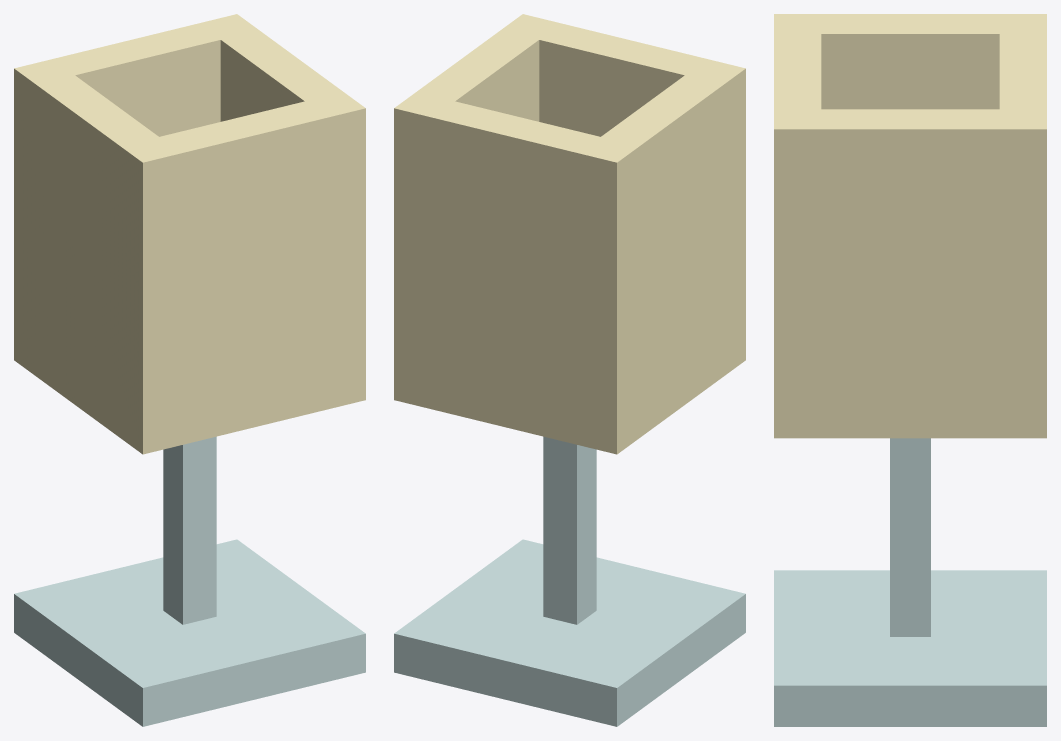
The model's file is lampSquareTable.glb.
3 renders of one model, left to right at view 1: azimuth 30°, elevation 25°; view 2: azimuth 150°, elevation 25°; view 3: azimuth 270°, elevation 25°, orthographic. The views are drawn at different scales.
Parts seen in each view (by area): view 1: lampSquareTable; view 2: lampSquareTable; view 3: lampSquareTable.
Part boxes in pixels (left/top/right/bottom): lampSquareTable: left=14, top=14, right=365, bottom=726; lampSquareTable: left=394, top=14, right=745, bottom=726; lampSquareTable: left=774, top=14, right=1046, bottom=726.
Bounding box in the file's own units: 1.2 × 2.9 × 1.2.
